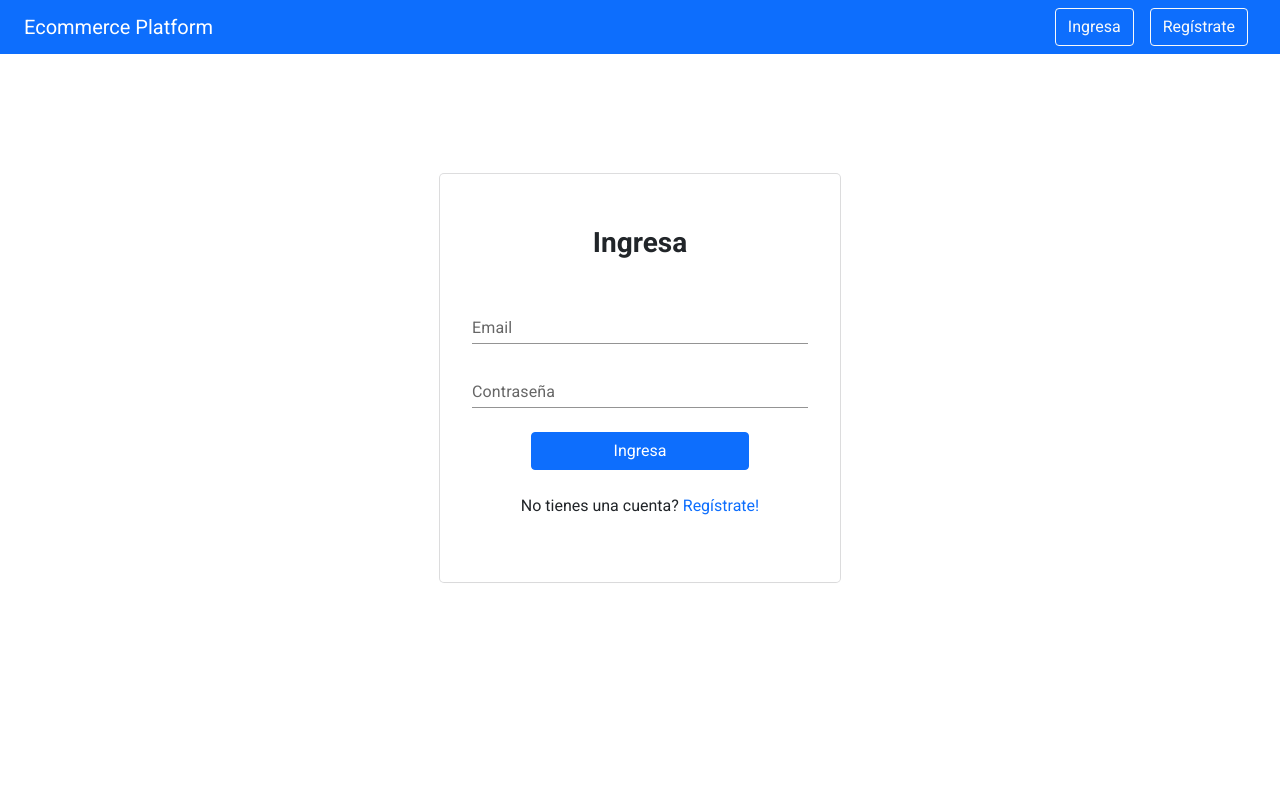
Test: Login Page › validates form - empty
This screenshot has width=1280, height=800.
What coordinates should you click on to do the following:
click the button "Ingresa" below "Contraseña"
I would click on:
 (640, 451)
Its box is [531,432,749,470].
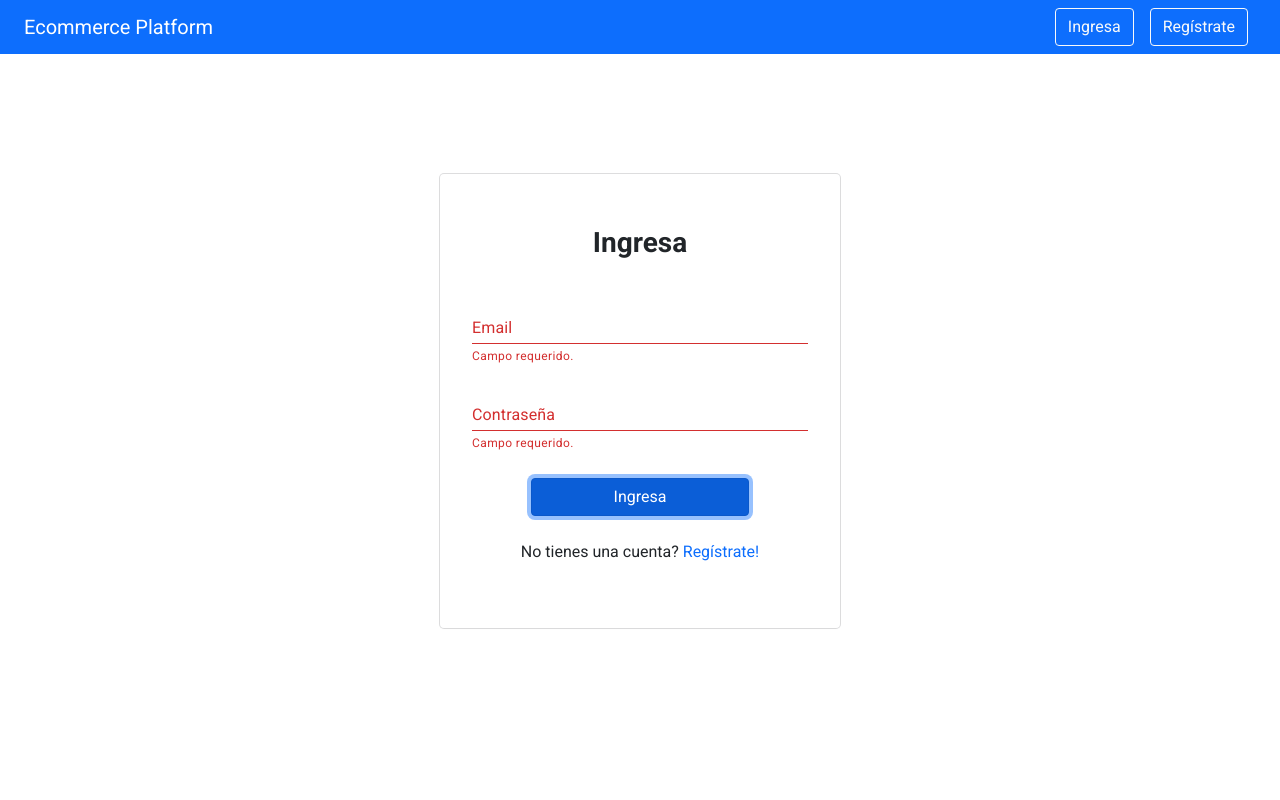
Expected: the text "Campo requerido." is shown 2 times, [472,349,574,363]; [472,436,574,450]
